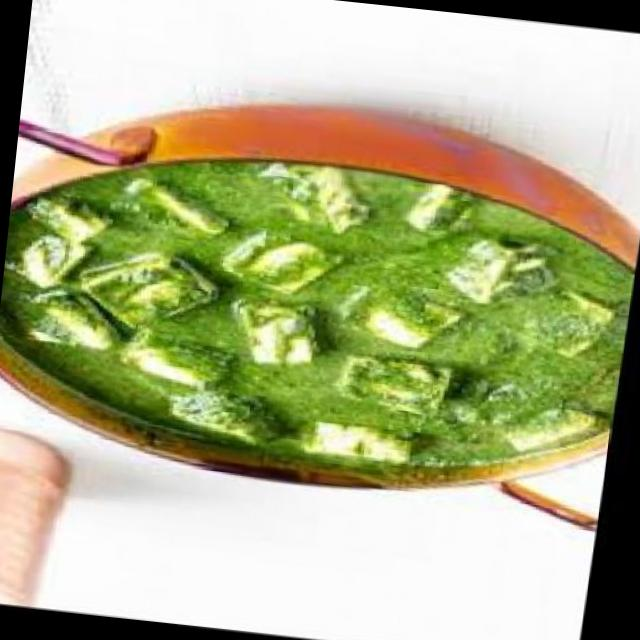palak_paneer: (0, 130, 640, 495)
